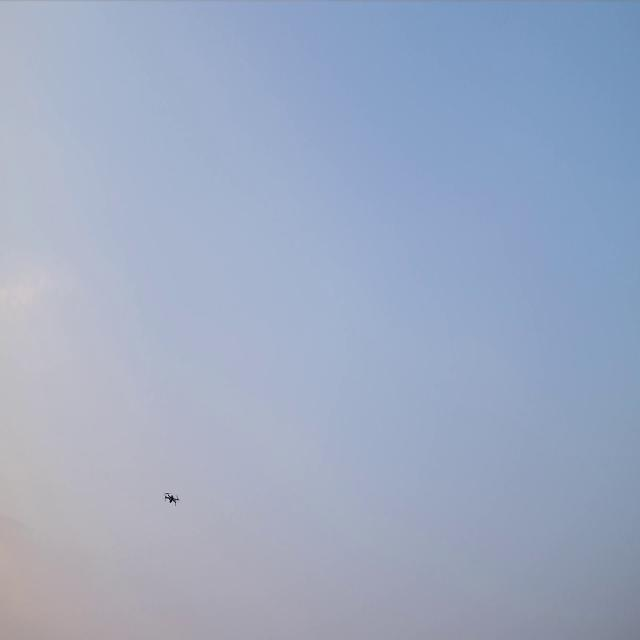UAV: (162, 489, 180, 506)
